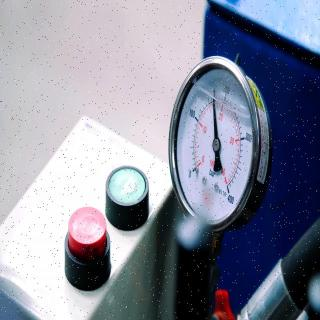gauge: (169, 50, 271, 238), (189, 160, 203, 178), (221, 176, 231, 196), (212, 138, 221, 153), (211, 97, 216, 104)
